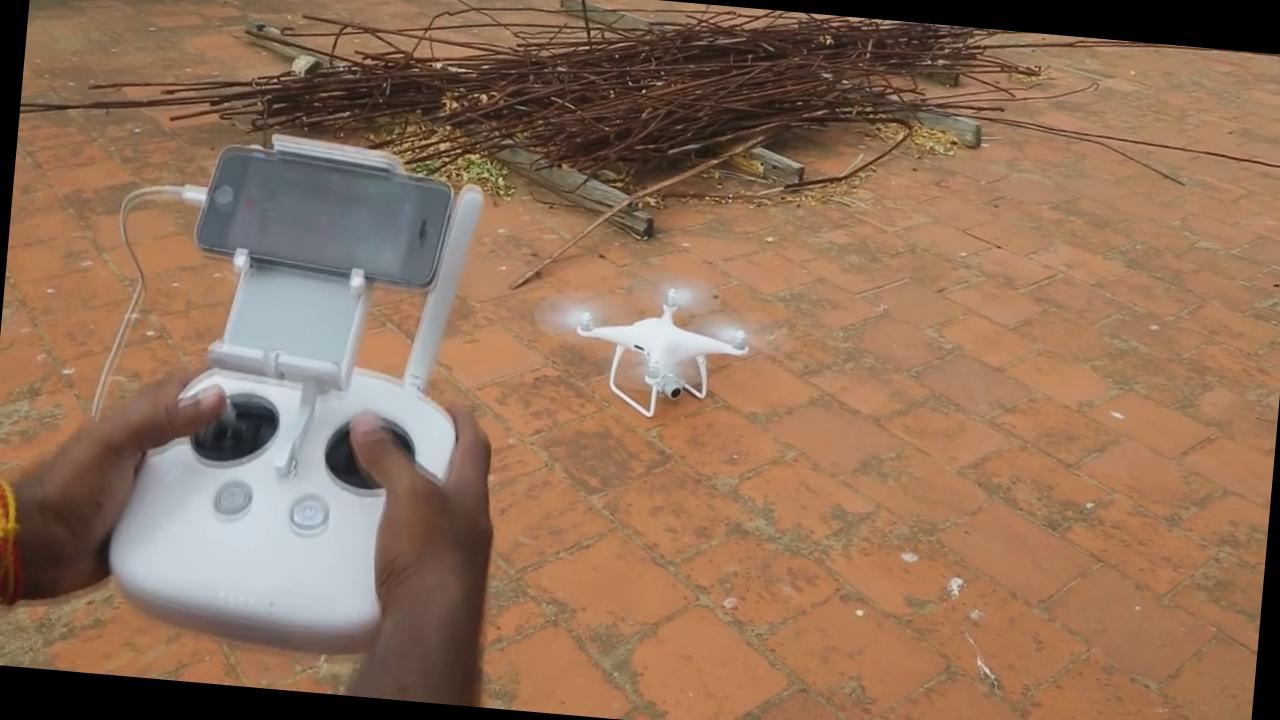drone: (535, 250, 769, 424)
